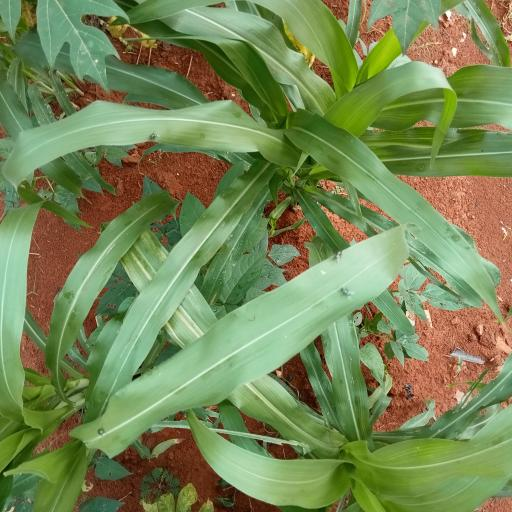Corn_Brown_Spots: (187, 410, 512, 512), (273, 2, 483, 141), (0, 204, 81, 512)
